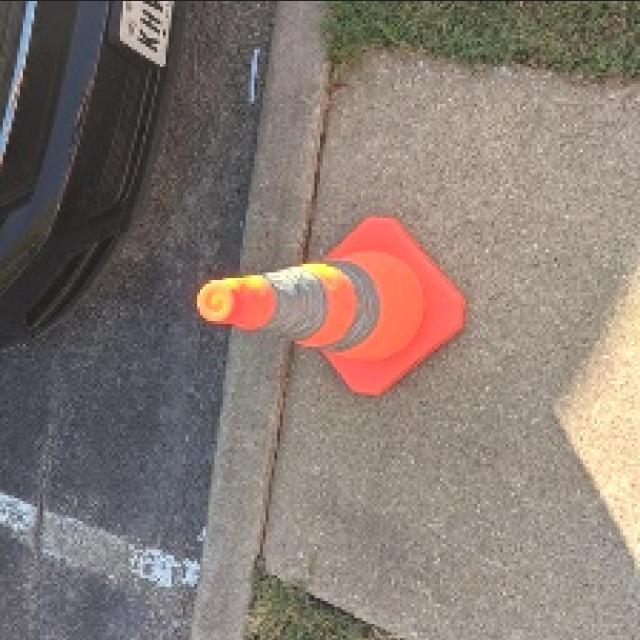traffic cone: (195, 217, 466, 399)
